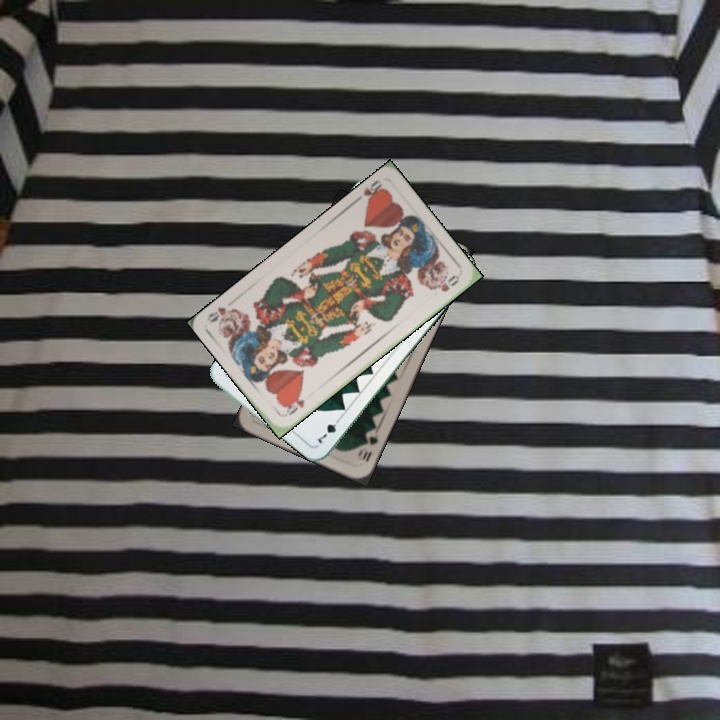G10: (355, 430, 381, 465)
G7: (312, 413, 344, 447)
HO: (350, 176, 389, 207), (281, 391, 308, 418)
